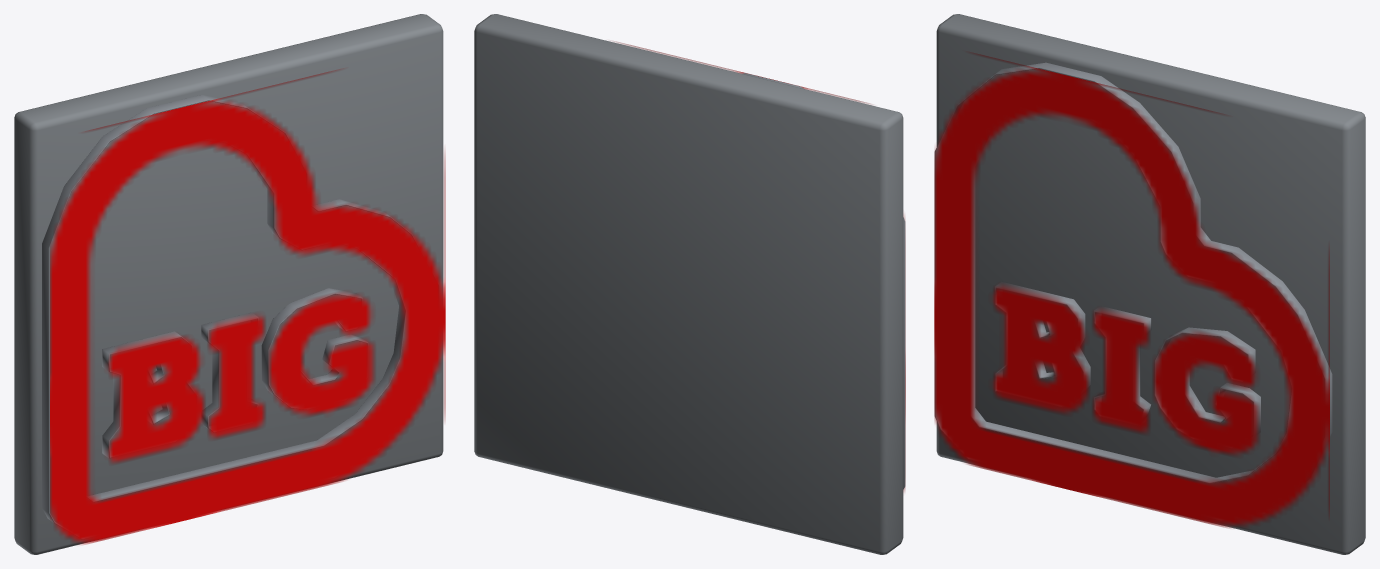
Rendered from big-market.glb.
3 views of the same model, side by side, from view 1: azimuth 30°, elevation 25°; view 2: azimuth 150°, elevation 25°; view 3: azimuth 330°, elevation 25° (orthographic).
Visible parts, largest first — view 1: Metal sign cassette, Original artwork, Raised operator logo; view 2: Metal sign cassette, Raised operator logo, Original artwork; view 3: Metal sign cassette, Original artwork, Raised operator logo.
Boxes of the visible parts, bbox=[...] form: Metal sign cassette: bbox=[14, 14, 443, 554]; Original artwork: bbox=[50, 69, 445, 544]; Raised operator logo: bbox=[42, 95, 439, 539]; Metal sign cassette: bbox=[474, 14, 903, 554]; Raised operator logo: bbox=[742, 73, 905, 489]; Original artwork: bbox=[614, 41, 905, 491]; Metal sign cassette: bbox=[936, 14, 1365, 554]; Original artwork: bbox=[934, 52, 1329, 528]; Raised operator logo: bbox=[934, 62, 1332, 483].
Size of the model in its own units: 1.04 by 1.04 by 0.128.
3 materials, 1 textured.
